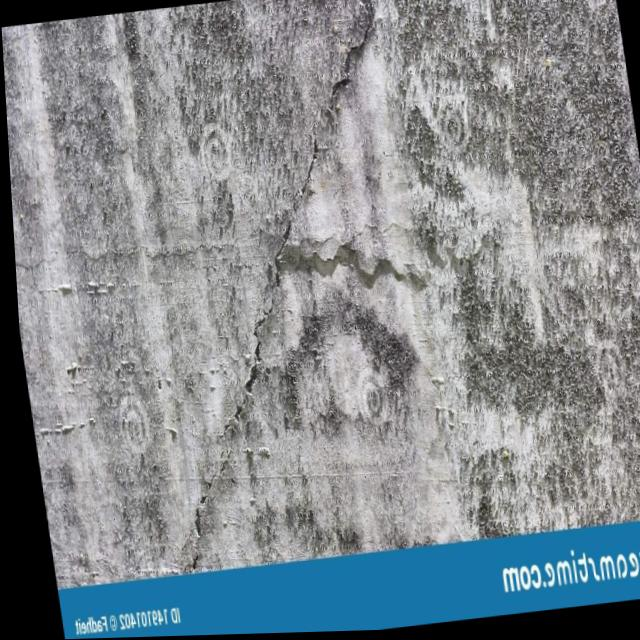Crack: (255, 13, 393, 223)
